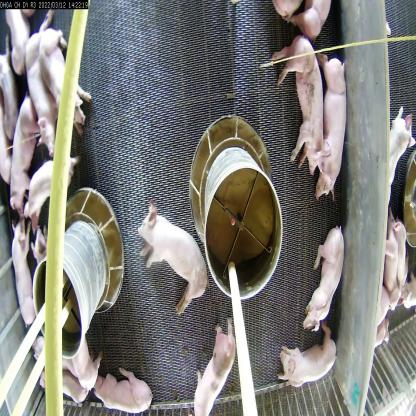Pig: (267, 21, 323, 168), (139, 202, 208, 306), (38, 13, 90, 126), (313, 49, 352, 190), (22, 26, 59, 153), (188, 319, 237, 413), (304, 223, 344, 334), (7, 98, 40, 217), (23, 152, 81, 216), (8, 213, 41, 324), (92, 367, 159, 415), (276, 344, 338, 393)
